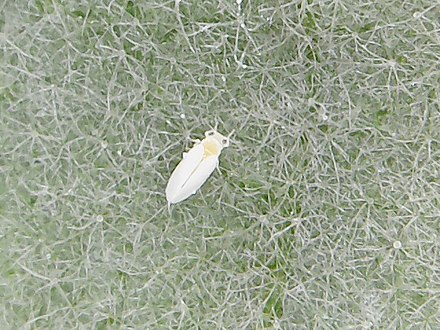Tobacco Whitefly: (156, 115, 260, 225)
